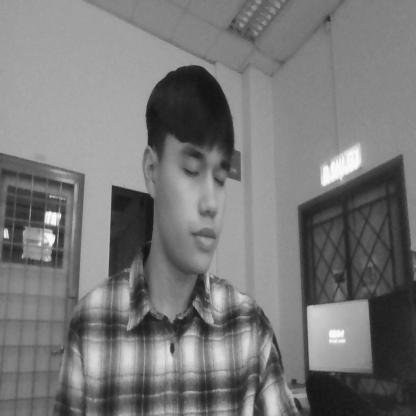Closed-Eyes: (178, 155, 233, 192)
